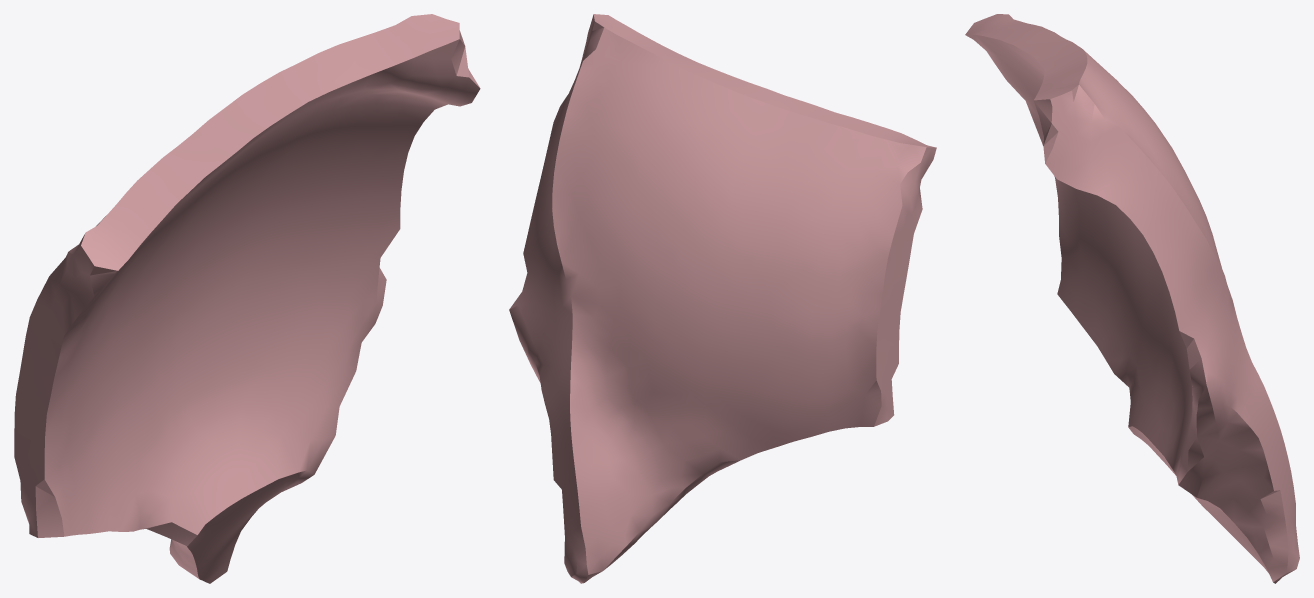
File: fma78480-l_mm3097.glb
3 views of the same model, side by side, from view 1: azimuth 30°, elevation 25°; view 2: azimuth 150°, elevation 25°; view 3: azimuth 270°, elevation 25° (orthographic). The views are drawn at different scales.
Parts seen in each view (by area): view 1: FMA78480-L_MM3097; view 2: FMA78480-L_MM3097; view 3: FMA78480-L_MM3097.
Part boxes in pixels (left/top/right/bottom): FMA78480-L_MM3097: left=14, top=14, right=480, bottom=583; FMA78480-L_MM3097: left=509, top=14, right=936, bottom=583; FMA78480-L_MM3097: left=965, top=14, right=1299, bottom=583.
Bounding box in the file's own units: 0.00425 × 0.00598 × 0.00339.
